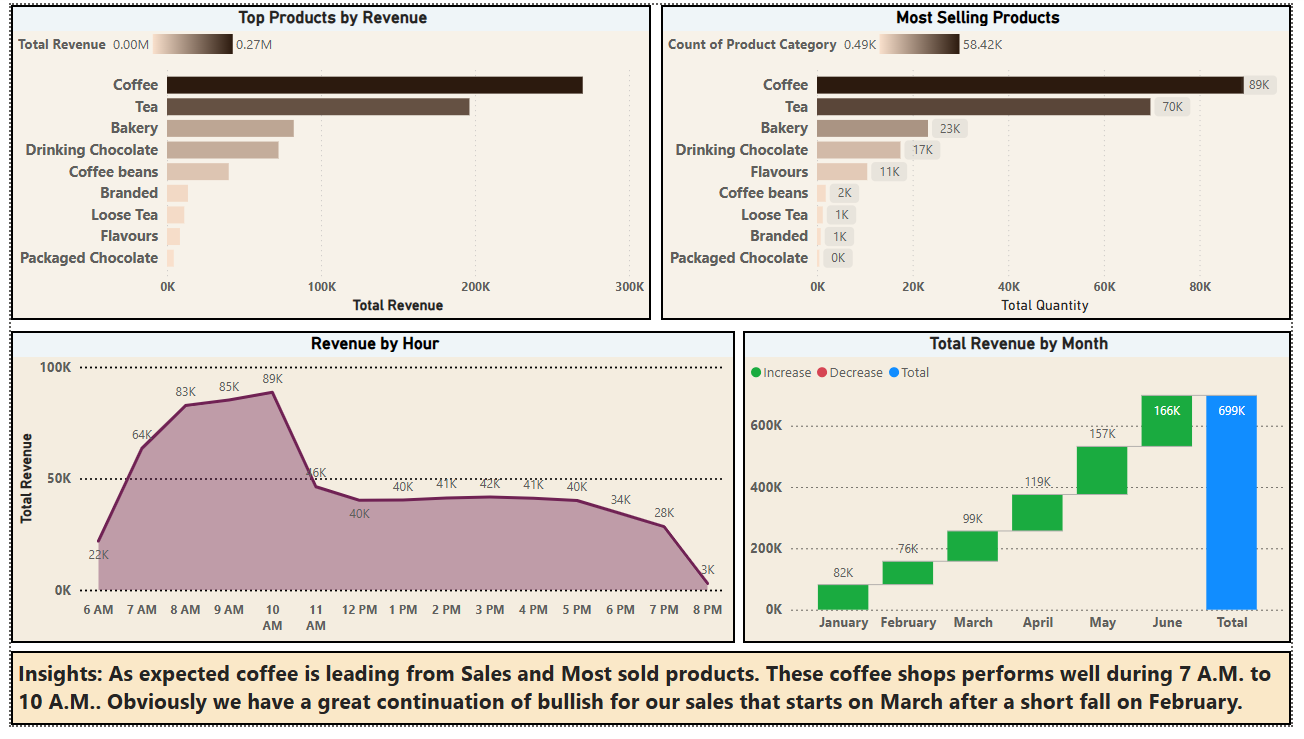

The page's visual inventory and layout, read from the dashboard file:
{"tool":"powerbi","page":{"name":"Time Analysis","canvas":[1280,720],"ordinal":1},"visuals":[{"type":"barChart","title":"Top Products by Revenue","fields":{"Y":["Coffee1.Total Revenue"],"Category":["Coffee1.product_category"]},"box":[0,0,640,315],"z":0},{"type":"barChart","title":"Most Selling Products","fields":{"Y":["Coffee1.Total Quantity"],"Category":["Coffee1.product_category"]},"box":[650,0,630,315],"z":1000},{"type":"lineChart","title":"Revenue by Hour","fields":{"Category":["Coffee1.Hour_AMPM"],"Y":["Coffee1.Total Revenue"]},"box":[0,326,724,312],"z":2000},{"type":"waterfallChart","fields":{"Category":["Coffee1.Month"],"Y":["Coffee1.Total Revenue"]},"box":[732,326,548,312],"z":3000},{"type":"textbox","box":[0,646,1280,74],"z":4000}]}

Visuals, with their boxes in screenshot pixels (x1, y1, x2, y2), scaled from the page's 1280x720 canvas onto the 1304x739 screenshot:
"Top Products by Revenue" barChart: <bbox>0, 0, 652, 323</bbox>
"Most Selling Products" barChart: <bbox>662, 0, 1303, 323</bbox>
"Revenue by Hour" lineChart: <bbox>0, 335, 738, 655</bbox>
waterfallChart - Coffee1.Month x Coffee1.Total Revenue: <bbox>746, 335, 1303, 655</bbox>
textbox: <bbox>0, 663, 1303, 738</bbox>
